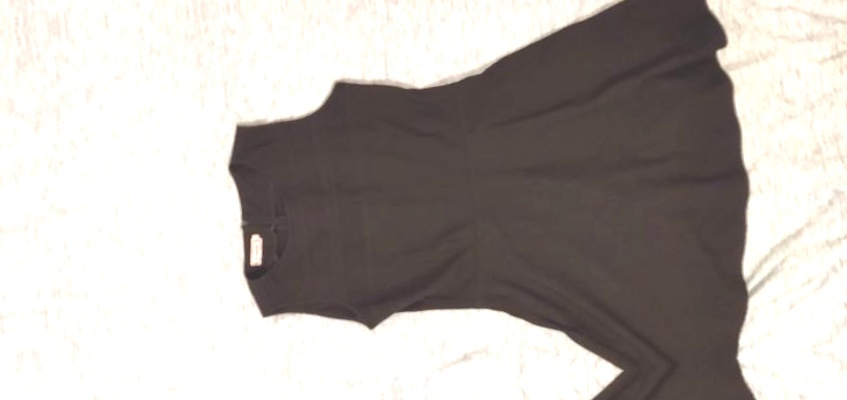Dress: (182, 3, 798, 400), (221, 357, 837, 400)
